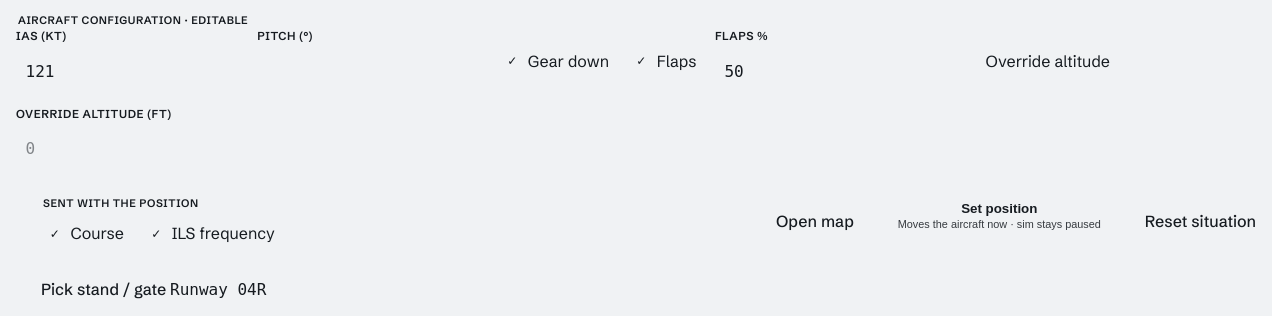
Test: Set position › renders a failed apply inline, never as a modal
Click the button "Set position Moves the aircraft now · sim stays paused" at (999, 221), box [874,195,1125,247]
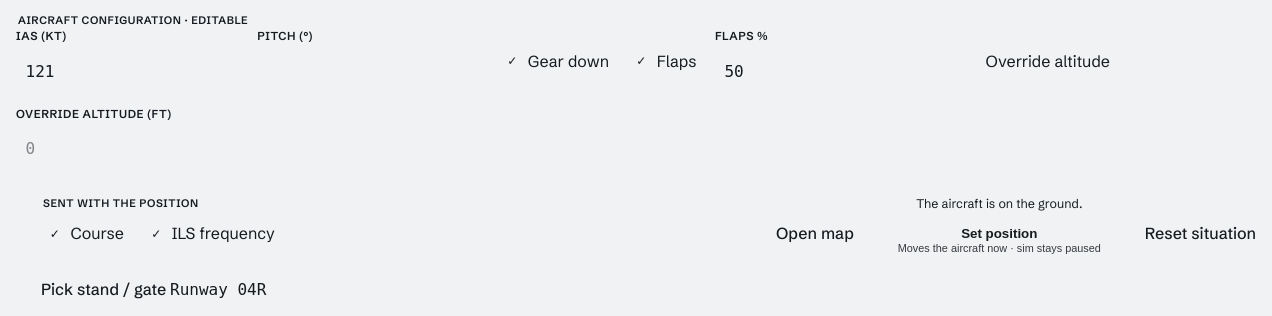
Now the text "The aircraft is on the ground." is shown, box [916,195,1082,214]
